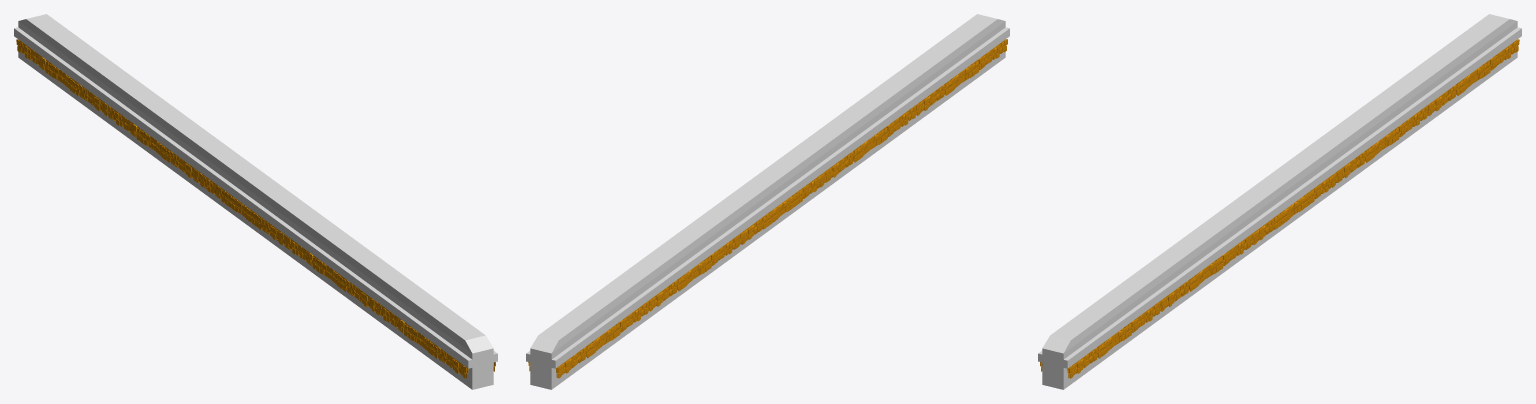
File: WallLarge.fbx
3 renders of one model, left to right at view 1: azimuth 30°, elevation 25°; view 2: azimuth 150°, elevation 25°; view 3: azimuth 330°, elevation 25°, orthographic.
Parts seen in each view (by area): view 1: Wall; view 2: Wall; view 3: Wall.
Boxes of the visible parts, x1=… form: Wall: x1=14, y1=14, x2=497, y2=389; Wall: x1=526, y1=14, x2=1009, y2=389; Wall: x1=1038, y1=14, x2=1521, y2=389.
Bounding box in the file's own units: 143 × 197 × 3692.
